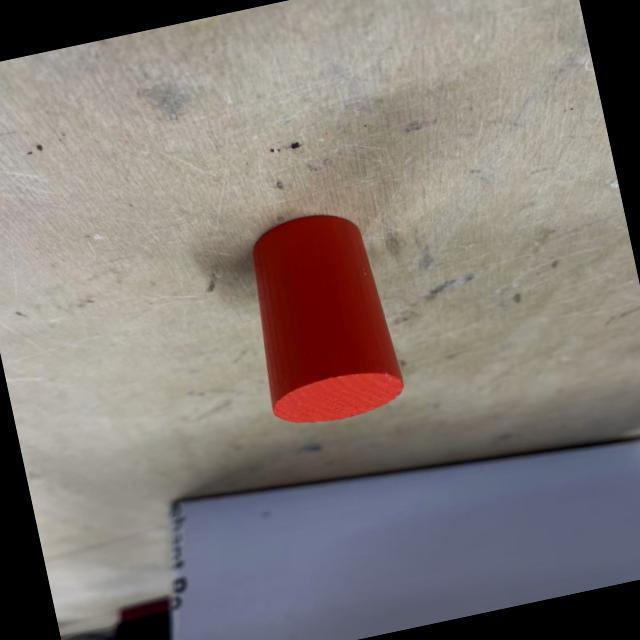red_cylinder: (232, 200, 410, 434)
